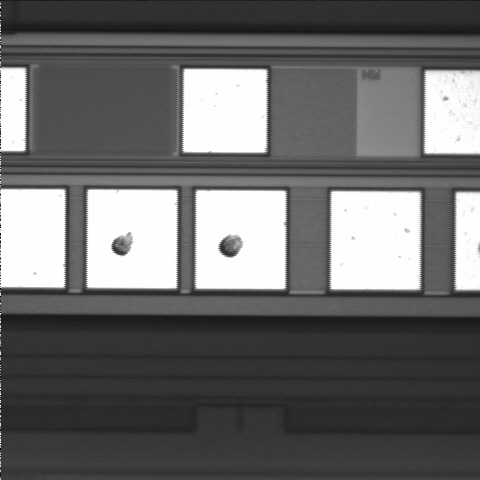pad: (196, 190, 286, 289), (331, 191, 420, 290), (88, 190, 177, 288), (183, 69, 267, 153)
